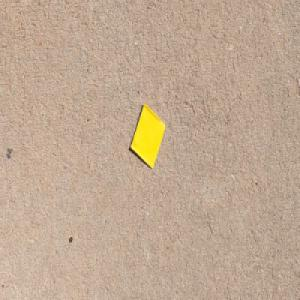PlasticPart: (129, 103, 166, 170)
